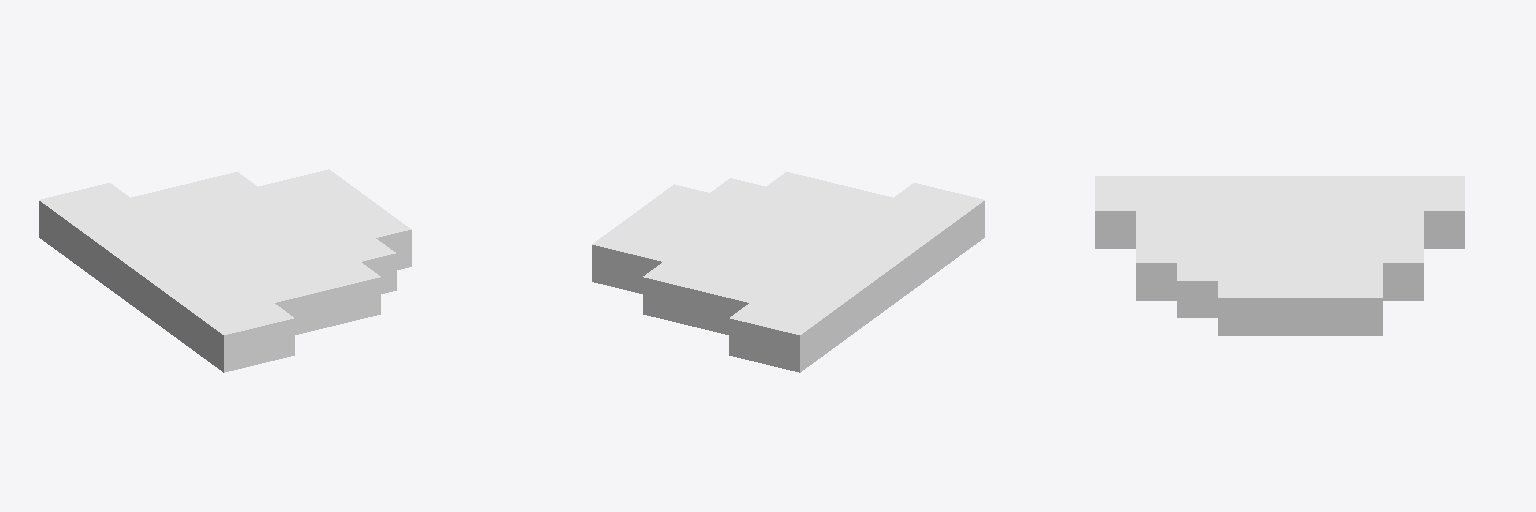
The model's file is helicopter-0.obj.
3 renders of one model, left to right at view 1: azimuth 30°, elevation 25°; view 2: azimuth 150°, elevation 25°; view 3: azimuth 270°, elevation 25°, orthographic.
Parts seen in each view (by area): view 1: object 1; view 2: object 1; view 3: object 1.
Boxes of the visible parts, box(x1,y1,x2,y2) form: object 1: box(39, 169, 411, 372); object 1: box(592, 172, 984, 372); object 1: box(1095, 176, 1464, 335).
Bounding box in the file's own units: 0.7 × 0.1 × 0.9.